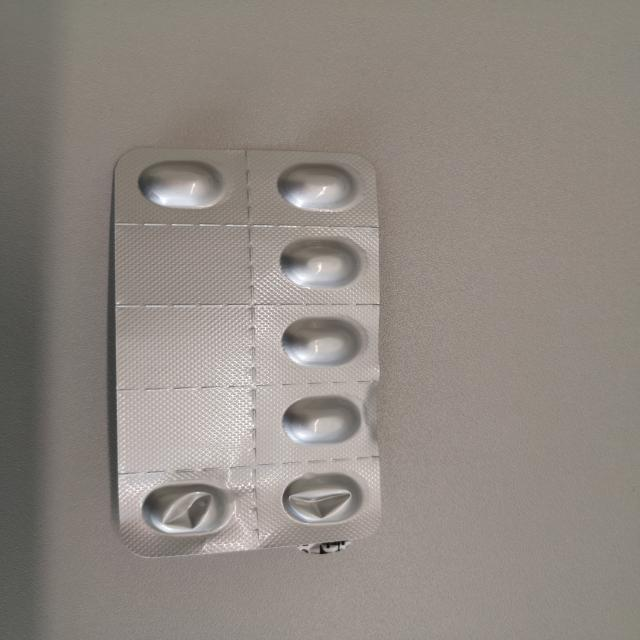Empty: (130, 479, 244, 541), (274, 470, 371, 528)
Pill: (264, 312, 371, 374), (134, 153, 237, 215), (271, 155, 369, 218), (268, 392, 369, 451), (276, 232, 366, 298)
